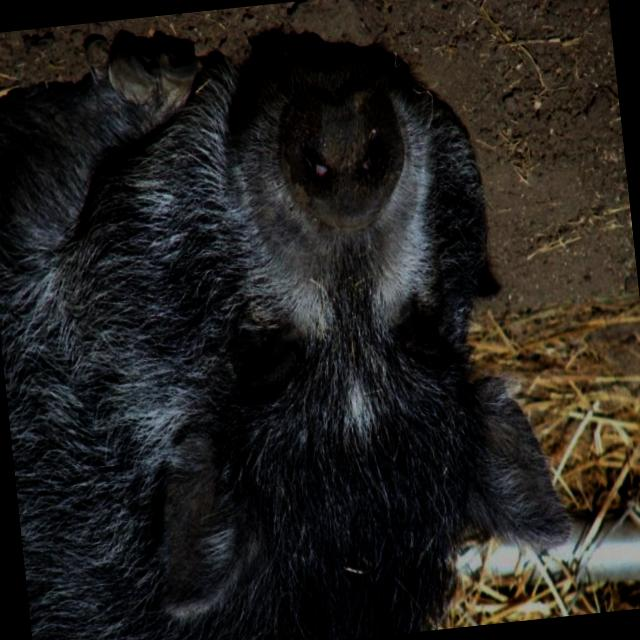pig: (0, 40, 568, 640)
